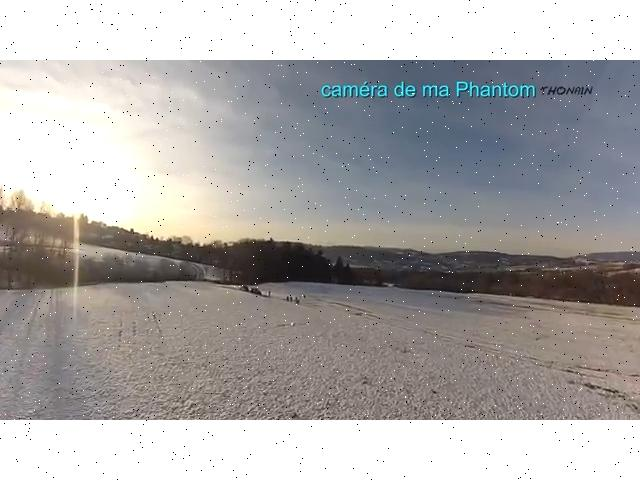Anti-Drone: (264, 314, 322, 337)
